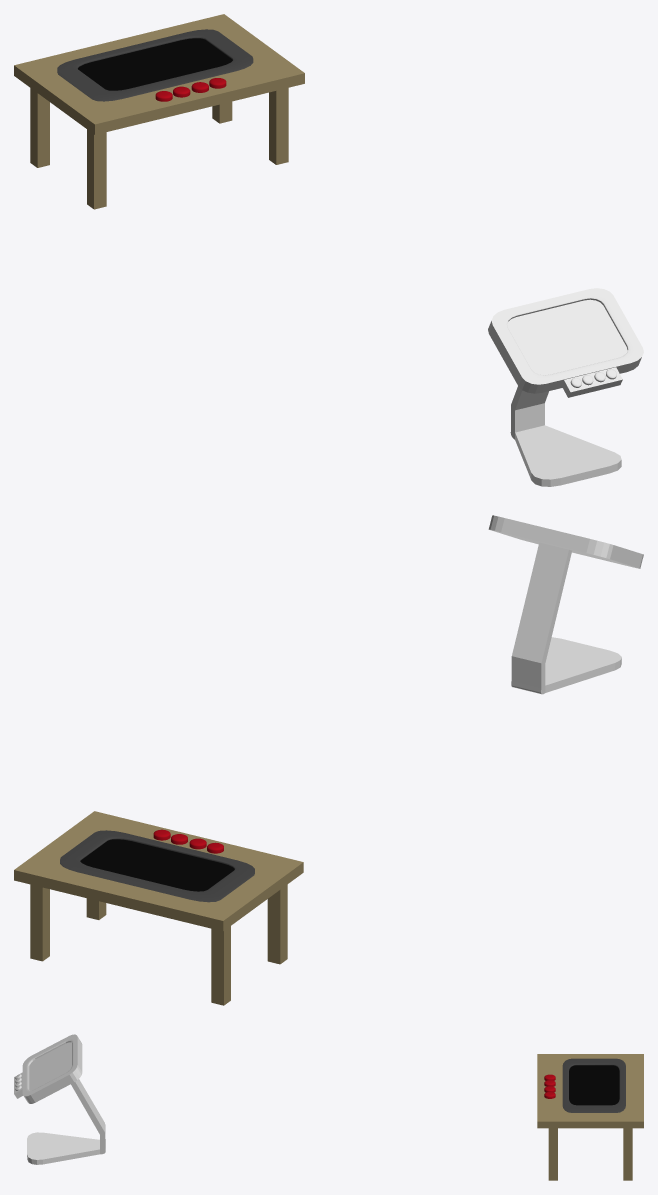
The model's file is table.fbx.
3 renders of one model, top to bottom at view 1: azimuth 30°, elevation 25°; view 2: azimuth 150°, elevation 25°; view 3: azimuth 270°, elevation 25°, orthographic. The views are drawn at different scales.
Visible parts, largest first — view 1: Cube, Cube.001, Cube.002; view 2: Cube, Cube.001; view 3: Cube, Cube.001.
Part boxes in pixels (<box>): Cube: <box>14,14,304,209</box>; Cube.001: <box>488,288,643,486</box>; Cube.002: <box>561,367,622,397</box>; Cube: <box>14,811,303,1005</box>; Cube.001: <box>488,515,643,694</box>; Cube: <box>537,1054,643,1180</box>; Cube.001: <box>22,1034,105,1164</box>.
Bounding box in the file's own units: 300 × 208 × 1181.
